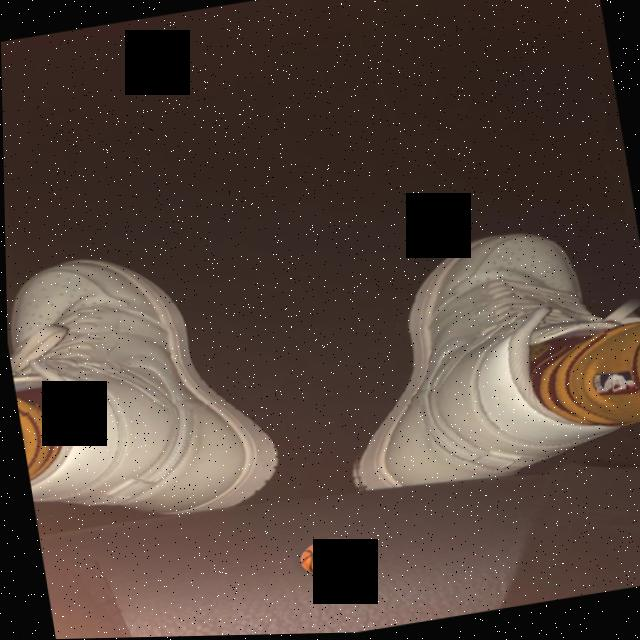shoe: (315, 220, 624, 504), (4, 232, 291, 537)
